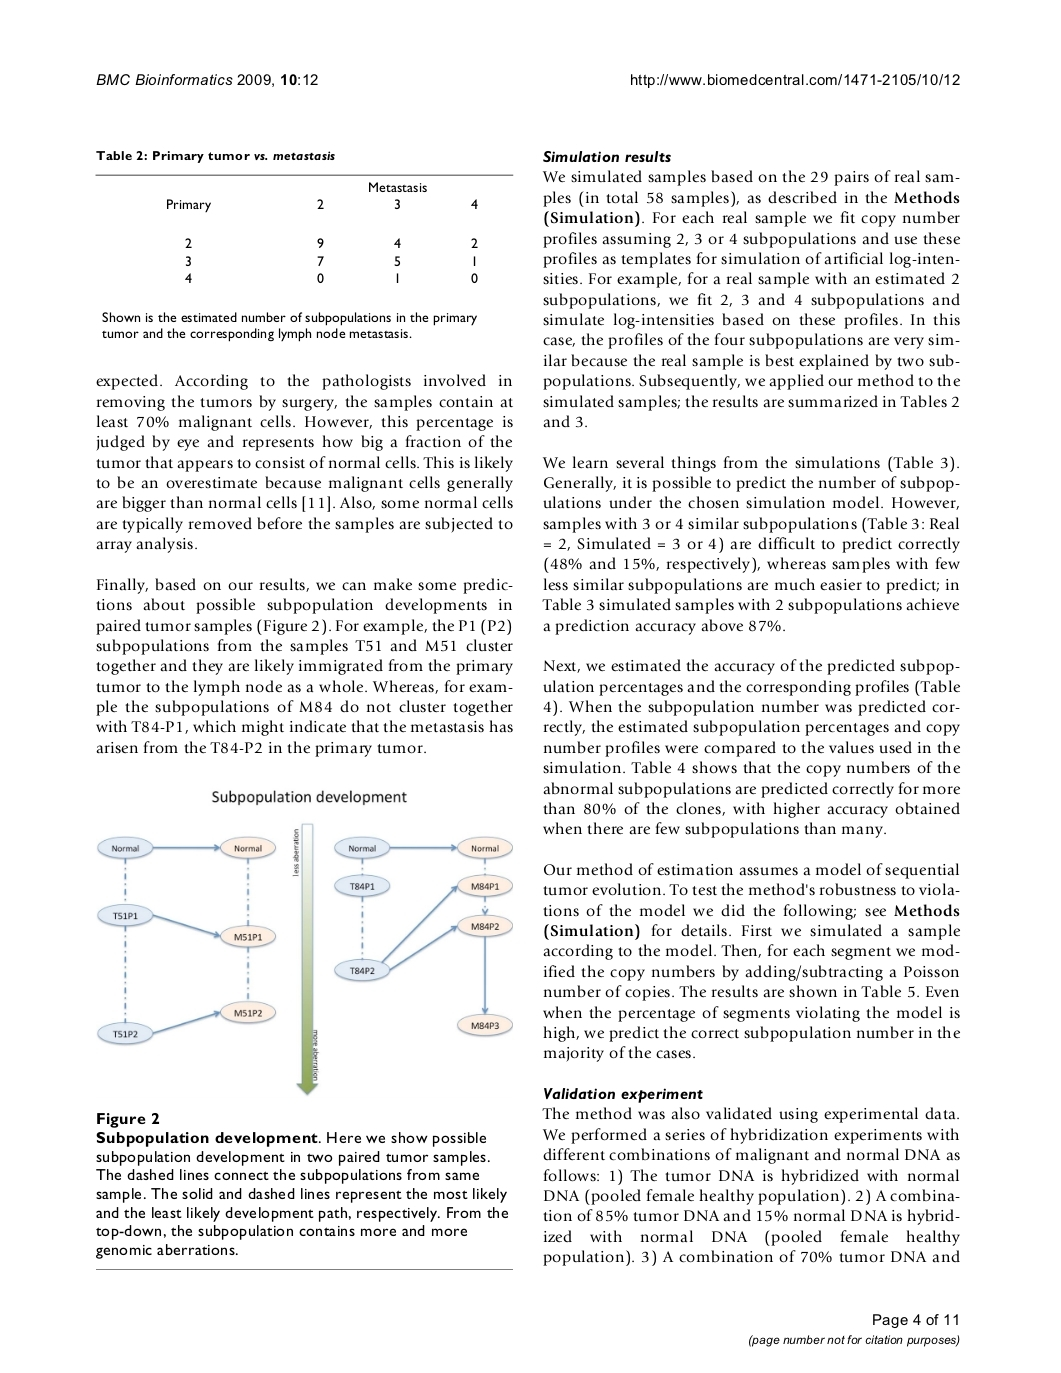Table: (95, 174, 513, 282)
figure: (97, 822, 512, 1096)
